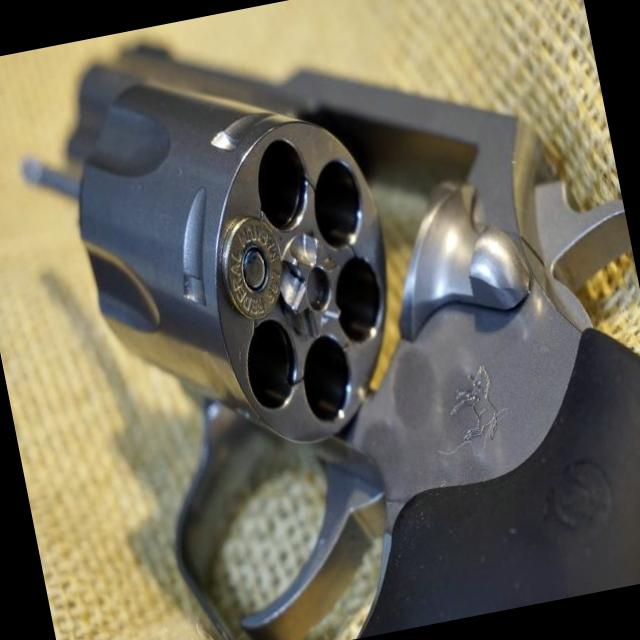Gun: (24, 46, 640, 640)
